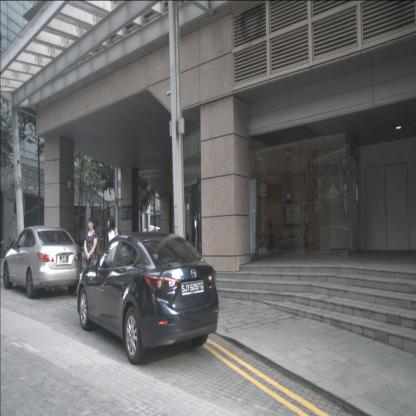human-pedestrian-adult: (84, 218, 98, 291), (108, 215, 121, 289), (92, 219, 104, 279), (7, 236, 11, 257)
vehicle-car: (77, 232, 219, 365), (3, 226, 83, 299), (301, 226, 362, 276)
